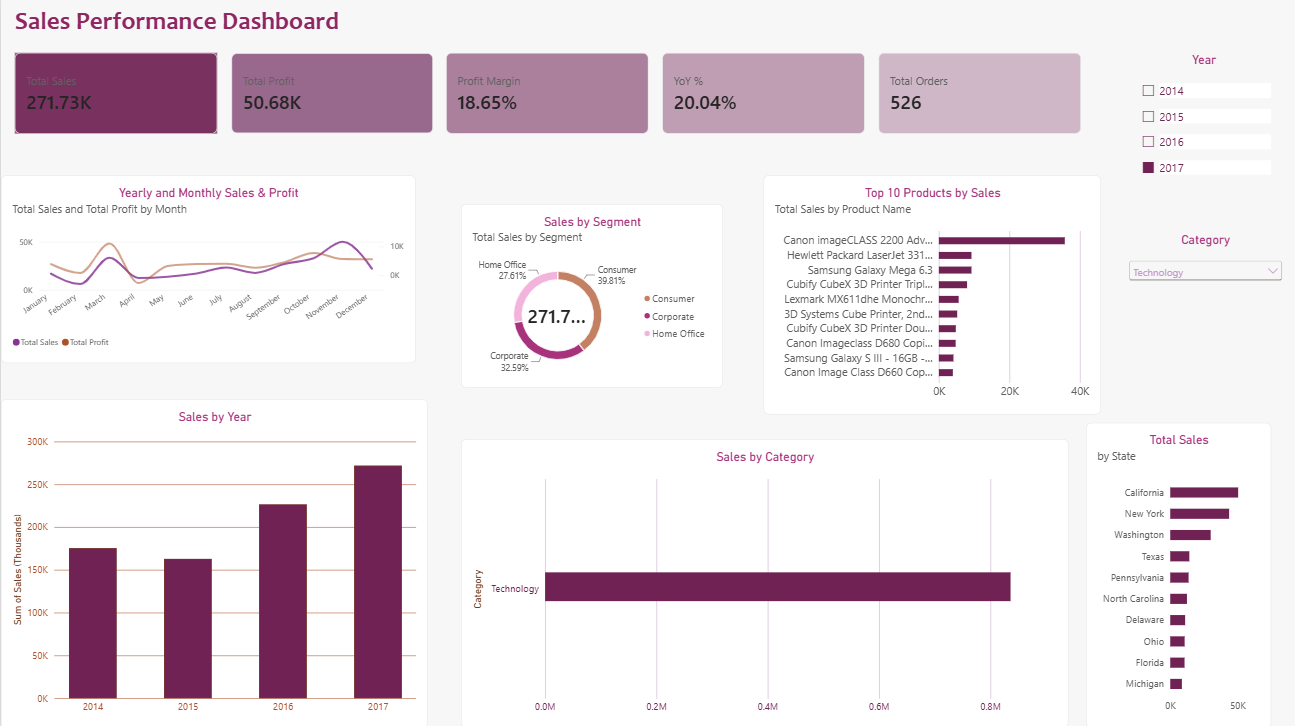

This screenshot's page, from the dashboard's own definition file:
{"tool":"powerbi","page":{"name":"Page 1","canvas":[1920,1080],"ordinal":0},"visuals":[{"type":"cardVisual","title":"Profit Margin ","fields":{"Data":["sales_cleaned.Profit Margin"]},"box":[660,80,300,120],"z":0},{"type":"cardVisual","title":"Total Profit ","fields":{"Data":["sales_cleaned.Total Profit"]},"box":[340,80,300,120],"z":1000},{"type":"cardVisual","title":"Total Sales ","fields":{"Data":["sales_cleaned.Total Sales"]},"box":[20,80,300,120],"z":2000},{"type":"clusteredColumnChart","title":"Sales by Year ","fields":{"Category":["sales_cleaned.Order Date.Variation.Date Hierarchy.Year"],"Y":["Sum(sales_cleaned.Sales)"]},"box":[0,592,632,488],"z":3000},{"type":"clusteredBarChart","title":"Sales by Category","fields":{"Category":["sales_cleaned.Category"],"Y":["Sum(sales_cleaned.Sales)"]},"box":[682,652,900,428],"z":4000},{"type":"slicer","title":"Year","fields":{"Values":["sales_cleaned.Order Year"]},"box":[1684,80,198,262],"z":5000},{"type":"slicer","title":"Category","fields":{"Values":["sales_cleaned.Category"]},"box":[1684,324,236,268],"z":6000},{"type":"lineChart","title":"Yearly and Monthly Sales & Profit","fields":{"Category":["sales_cleaned.Order Date.Variation.Date Hierarchy.Year","sales_cleaned.Order Date.Variation.Date Hierarchy.Month"],"Y":["sales_cleaned.Total Sales"],"Y2":["sales_cleaned.Total Profit"]},"box":[0,262,614,278],"z":7000},{"type":"clusteredBarChart","title":"Top 10 Products by Sales","fields":{"Category":["sales_cleaned.Product Name"],"Y":["sales_cleaned.Total Sales"]},"box":[1130,262,500,354],"z":8000},{"type":"cardVisual","title":"YoY Growth","fields":{"Data":["sales_cleaned.YoY %"]},"box":[980,80,300,120],"z":9000},{"type":"cardVisual","title":"Total Orders ","fields":{"Data":["sales_cleaned.Total Orders"]},"box":[1300,80,300,120],"z":10000},{"type":"donutChart","title":"Sales by Segment","fields":{"Category":["sales_cleaned.Segment"],"Y":["sales_cleaned.Total Sales"]},"box":[682,304,388,272],"z":11000},{"type":"barChart","fields":{"Category":["sales_cleaned.State"],"Y":["sales_cleaned.Total Sales"]},"box":[1608,628,274,452],"z":12000},{"type":"textbox","title":"Sales Performance Dashboard ","box":[20,10,1000,60],"z":15000}]}

Visuals, with their boxes in screenshot pixels (x1, y1, x2, y2), scaled from the page's 1920x1080 canvas onto the 1295x726 screenshot:
"Profit Margin " cardVisual: <region>445, 54, 648, 134</region>
"Total Profit " cardVisual: <region>229, 54, 432, 134</region>
"Total Sales " cardVisual: <region>13, 54, 216, 134</region>
"Sales by Year " clusteredColumnChart: <region>0, 398, 426, 725</region>
"Sales by Category" clusteredBarChart: <region>460, 438, 1067, 725</region>
"Year" slicer: <region>1136, 54, 1269, 230</region>
"Category" slicer: <region>1136, 218, 1294, 398</region>
"Yearly and Monthly Sales & Profit" lineChart: <region>0, 176, 414, 363</region>
"Top 10 Products by Sales" clusteredBarChart: <region>762, 176, 1099, 414</region>
"YoY Growth" cardVisual: <region>661, 54, 863, 134</region>
"Total Orders " cardVisual: <region>877, 54, 1079, 134</region>
"Sales by Segment" donutChart: <region>460, 204, 722, 387</region>
barChart - sales_cleaned.State x sales_cleaned.Total Sales: <region>1085, 422, 1269, 725</region>
"Sales Performance Dashboard " textbox: <region>13, 7, 688, 47</region>
